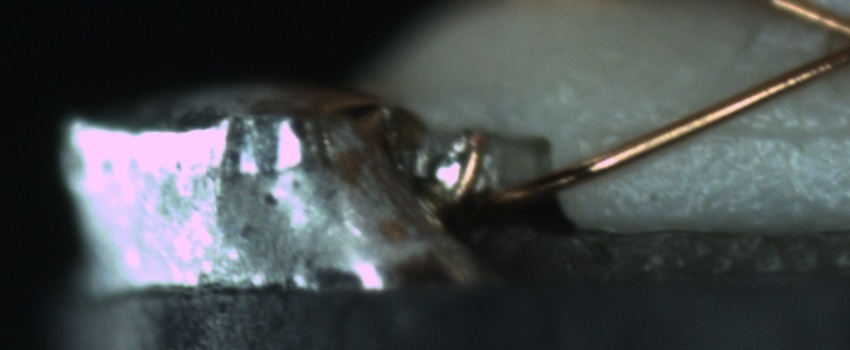CL: (801, 4, 850, 84)
DL: (688, 100, 849, 164)
TE: (444, 123, 492, 214)
